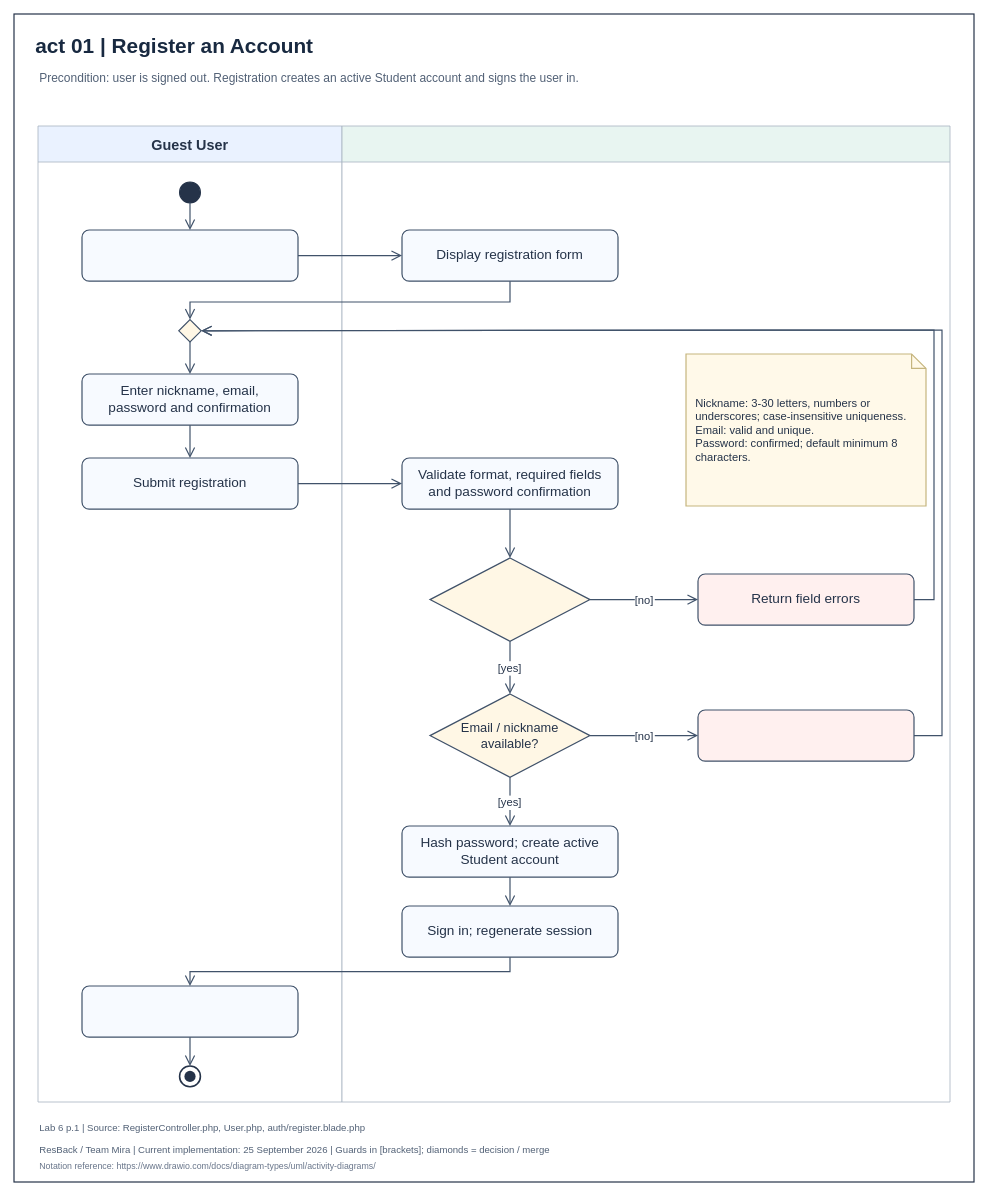
The diagram is 989 pixels wide and 1197 high, and some of its shapes have lost their labels. The shapes that lost their labels are listed below. From the top down, each one's box as (x1, y1, x2, y2) in pixels, then its label:
(81, 229, 298, 281): Open the registration page
(429, 557, 590, 641): Valid input?
(341, 125, 950, 1102): ResBack System
(697, 709, 914, 761): Return duplicate email or nickname error
(81, 985, 298, 1037): View feedback form
